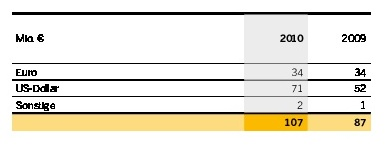table: (0, 0, 388, 146)
